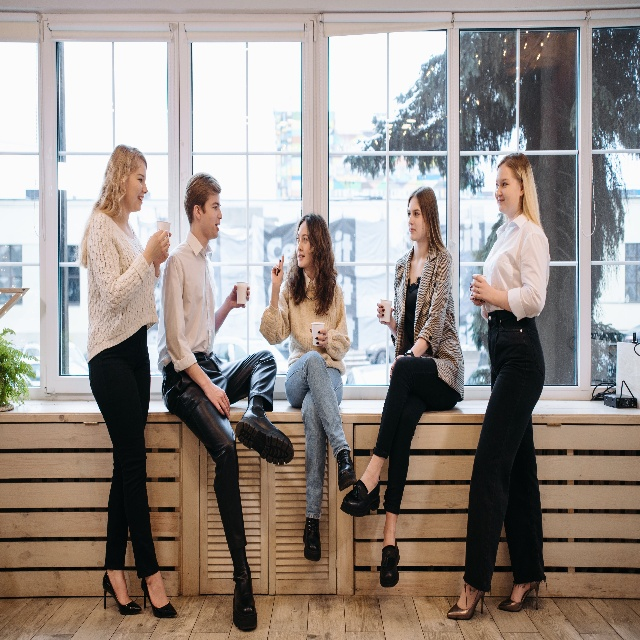Sin_guantes: (145, 229, 169, 265), (209, 380, 230, 416), (154, 230, 172, 264), (470, 274, 490, 303), (229, 283, 251, 308), (389, 352, 406, 383), (270, 254, 285, 285), (376, 302, 394, 326), (309, 327, 327, 349), (470, 292, 485, 308)
